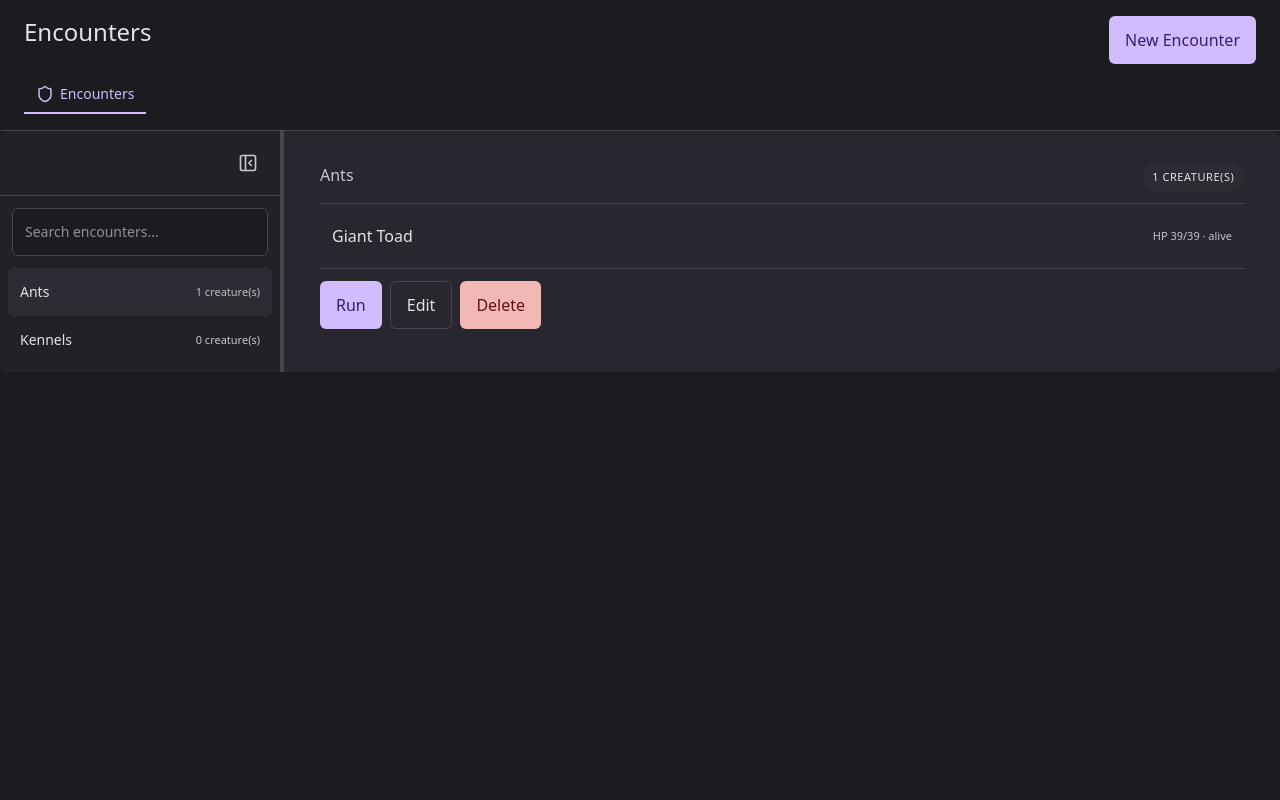
it: EncounterBrowserPage › opens the editor when New Encounter is clicked
expect the heading "Ants" is shown: met, box x1=320 y1=163 x2=354 y2=187
Click the button "New Encounter" at (1183, 40), box x1=1109 y1=16 x2=1256 y2=64
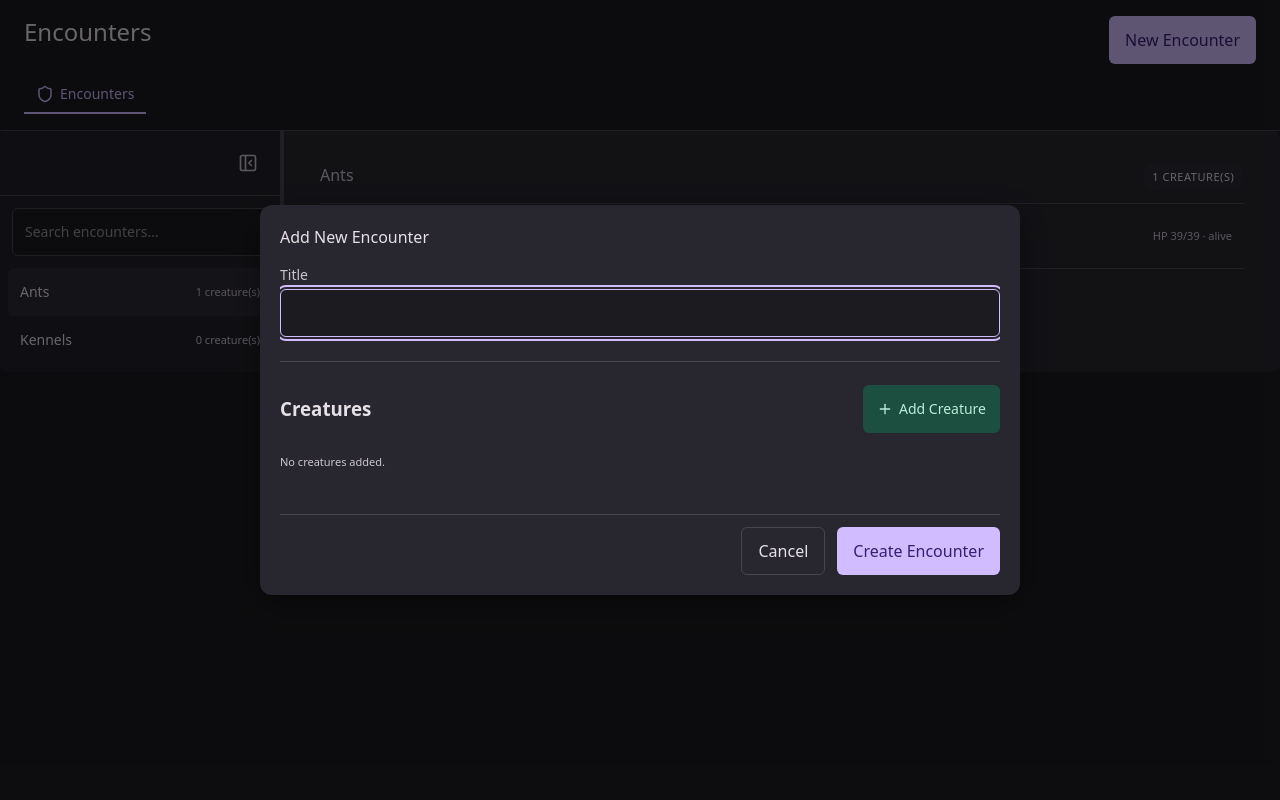
expect the dialog "Add New Encounter" is shown: met, box x1=260 y1=205 x2=1020 y2=595
